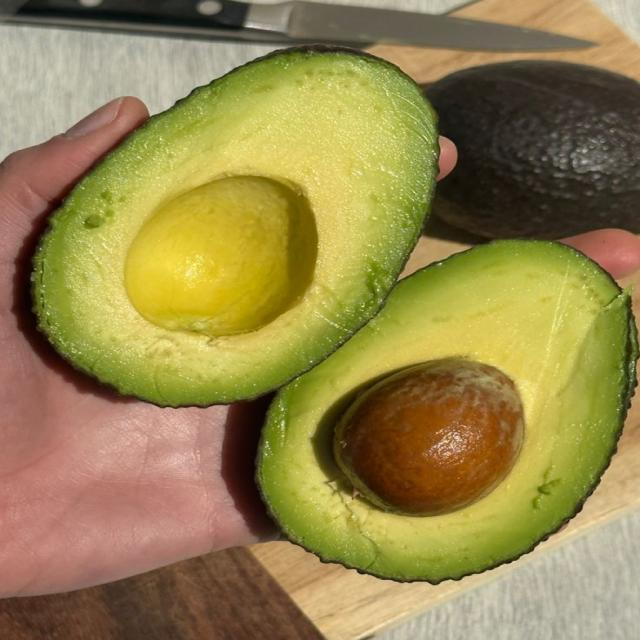avocado: (33, 47, 438, 406), (258, 240, 638, 583), (426, 61, 639, 238)
